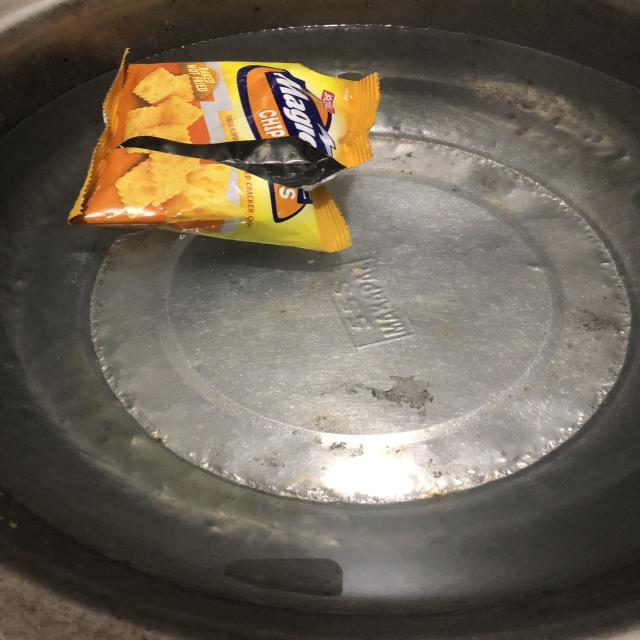Plastic Wrapper: (69, 56, 379, 252)
